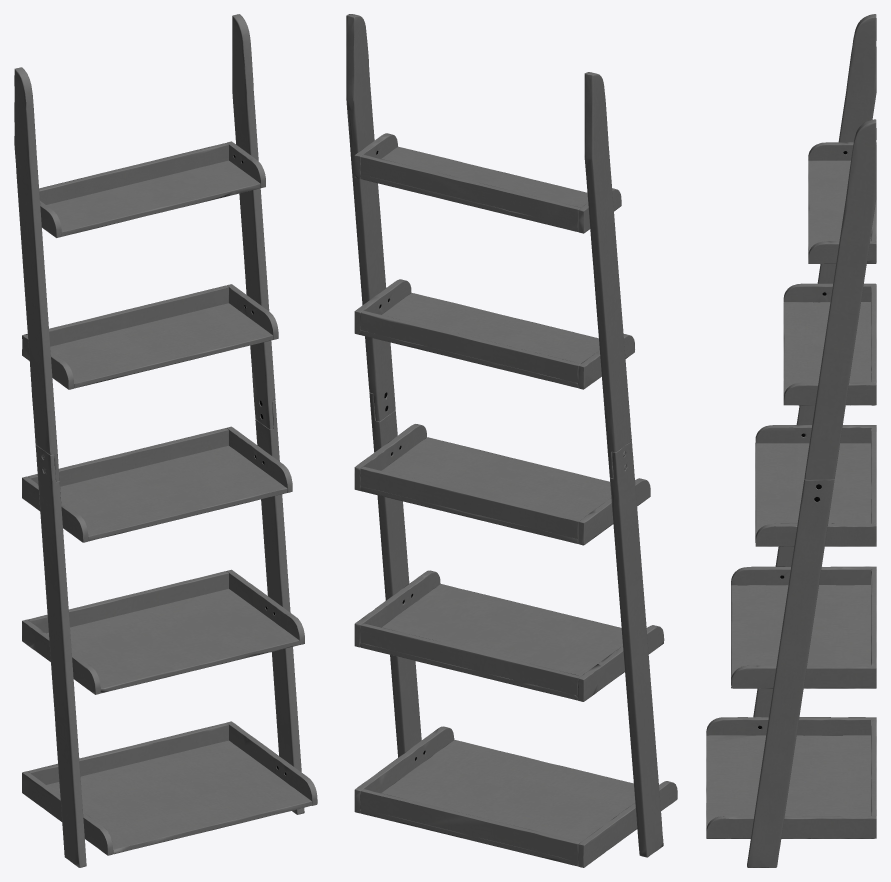
Rendered from EHEM1020_v6_LOD2.obj.
3 renders of one model, left to right at view 1: azimuth 30°, elevation 25°; view 2: azimuth 150°, elevation 25°; view 3: azimuth 270°, elevation 25°, orthographic. The views are drawn at different scales.
Parts seen in each view (by area): view 1: not_clear_obj_0_v6; view 2: not_clear_obj_0_v6; view 3: not_clear_obj_0_v6.
Boxes of the visible parts, x1,y1,x2,y2 form: not_clear_obj_0_v6: (14, 14, 317, 867); not_clear_obj_0_v6: (346, 14, 677, 867); not_clear_obj_0_v6: (706, 14, 876, 867).
Size of the model in its own units: 55.88 by 178 by 36.83.
2 materials, 1 textured.
